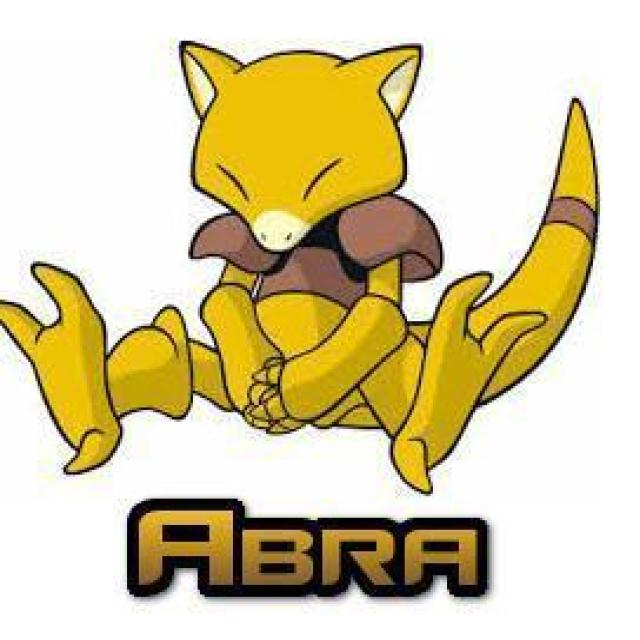Abra: (17, 34, 618, 486)
